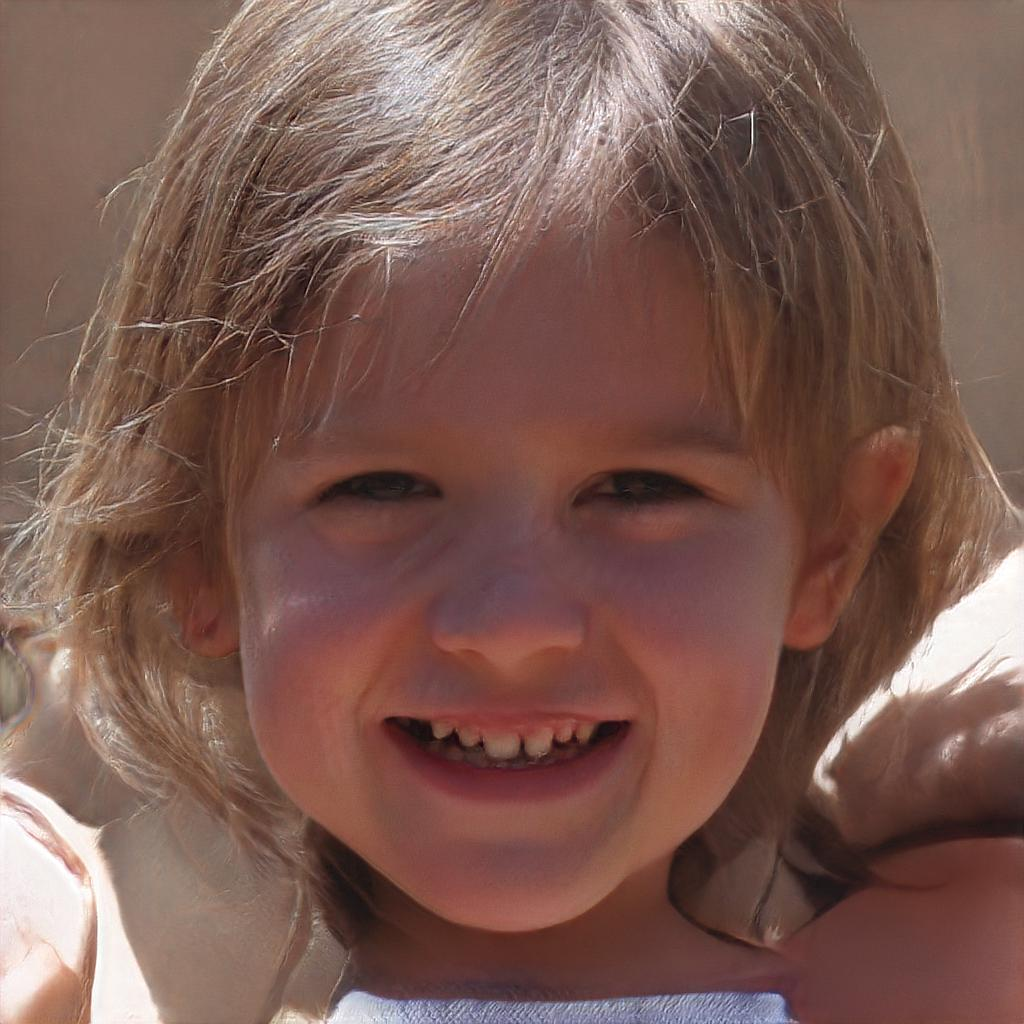face: (227, 228, 805, 932)
